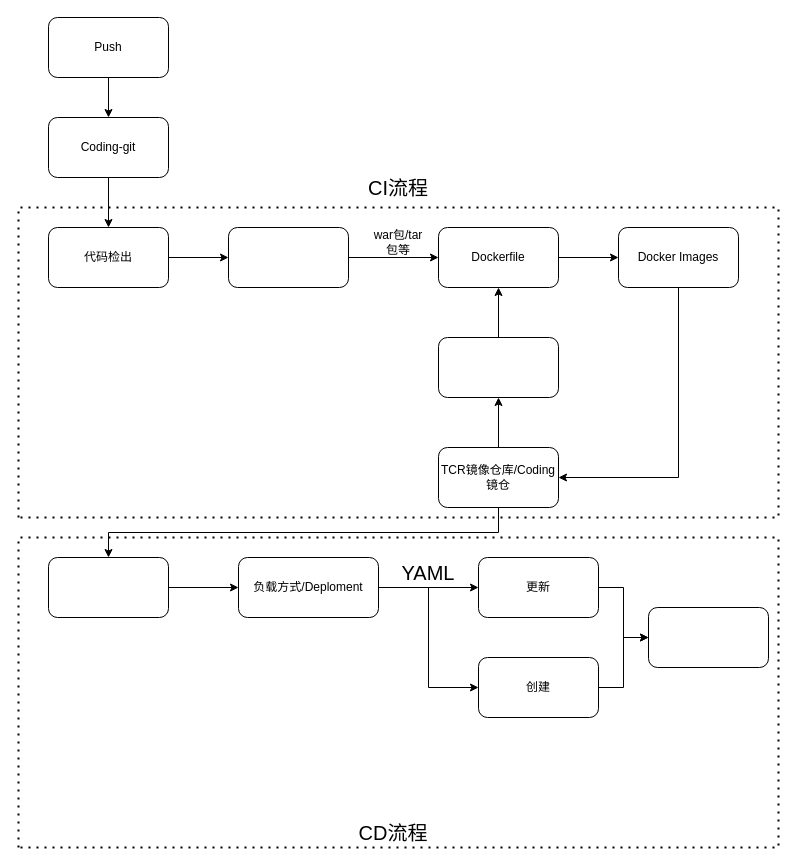
Some shapes in this 797 by 867 pixel diagram are drawn without their labels. Here are the shapes that lost their labels. From the top down, the centre of each, then its label:
At point 288,257: "编译构建".
At point 498,367: "基础镜像".
At point 108,587: "发布单".
At point 708,637: "测试".
